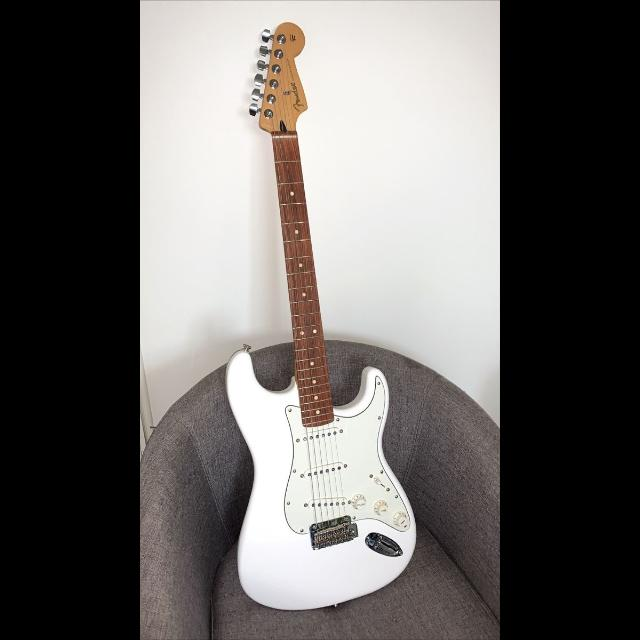Electric-Guitar: (191, 4, 433, 624)
